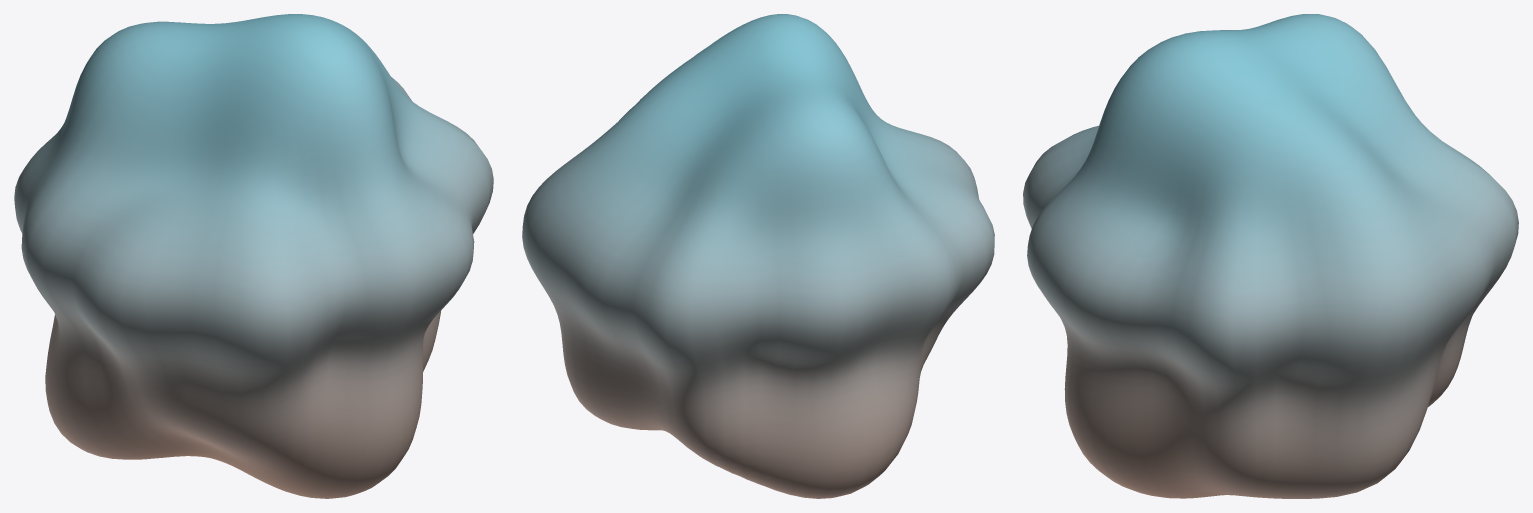
3 renders of one model, left to right at view 1: azimuth 30°, elevation 25°; view 2: azimuth 150°, elevation 25°; view 3: azimuth 270°, elevation 25°, orthographic. The views are drawn at different scales.
Bounding box in the file's own units: 0.1315 × 0.1329 × 0.1332.
